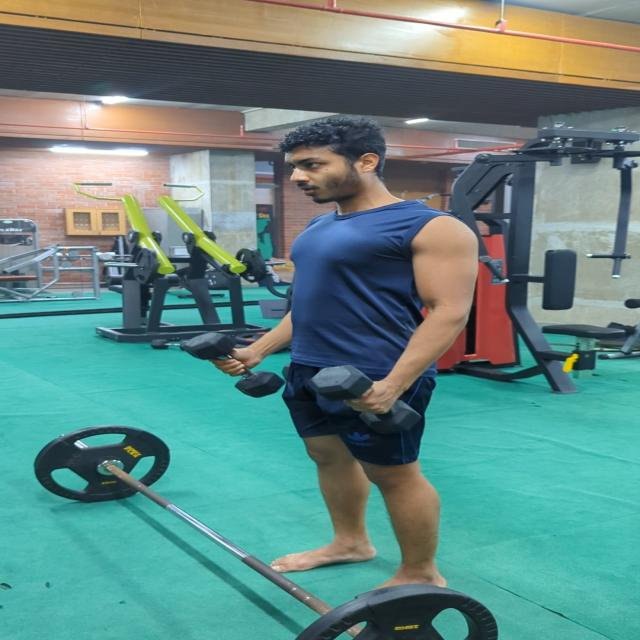Normal_DumbbellBicepCurls: (190, 116, 483, 594)
